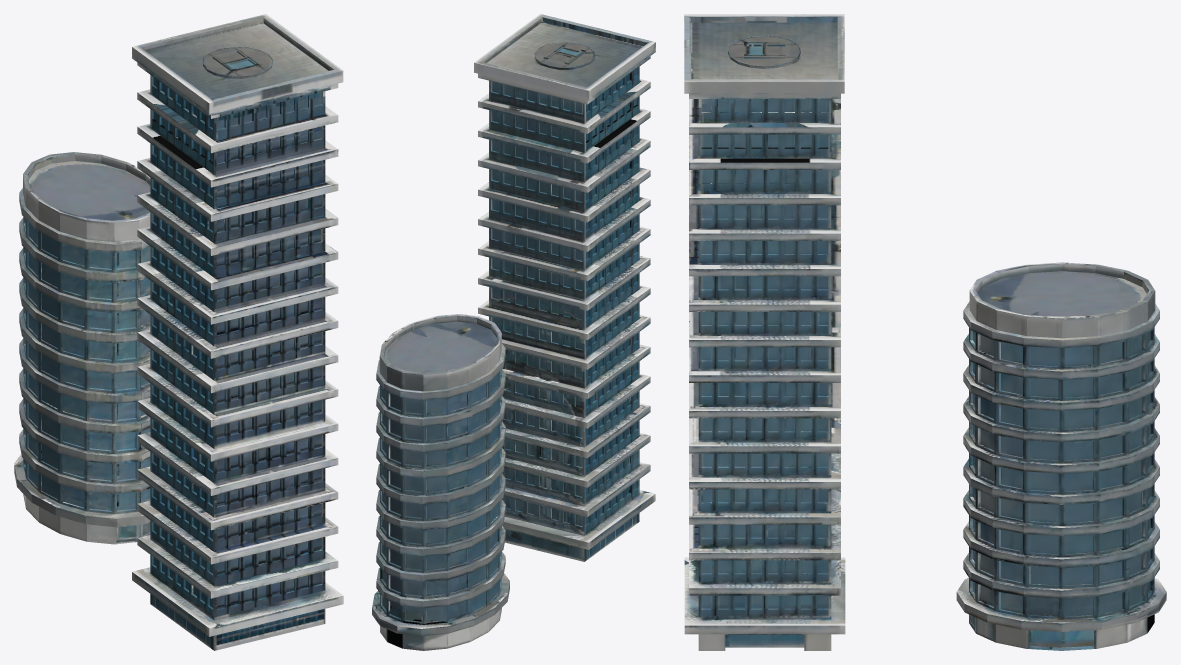
The model's file is textured_simple.glb.
3 views of the same model, side by side, from view 1: azimuth 30°, elevation 25°; view 2: azimuth 150°, elevation 25°; view 3: azimuth 270°, elevation 25° (orthographic). The views are drawn at different scales.
Parts seen in each view (by area): view 1: Node; view 2: Node; view 3: Node.
Boxes of the visible parts, left/top/right/bottom form: Node: left=14, top=14, right=343, bottom=650; Node: left=372, top=14, right=655, bottom=650; Node: left=684, top=14, right=1166, bottom=650.
Size of the model in its own units: 0.5074 by 2 by 1.52.
1 material, 1 textured.
